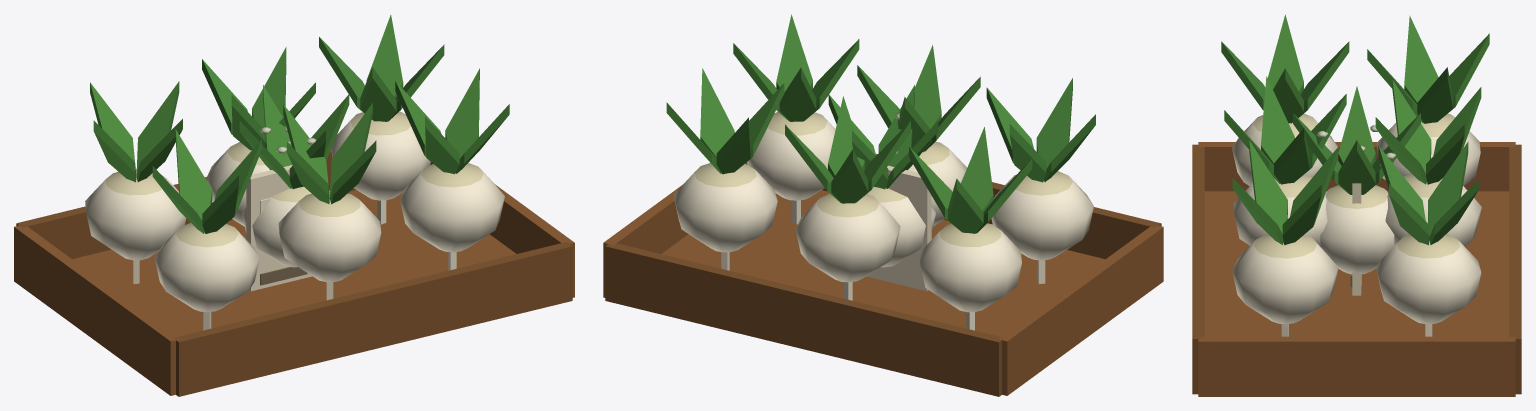
Rendered from Crop_SugarBeet.fbx.
3 renders of one model, left to right at view 1: azimuth 30°, elevation 25°; view 2: azimuth 150°, elevation 25°; view 3: azimuth 270°, elevation 25°, orthographic.
Parts seen in each view (by area): view 1: Crop_SugarBeet__Stack, Crop_SugarBeet, Crop_SugarBeet__Seed; view 2: Crop_SugarBeet__Stack, Crop_SugarBeet, Crop_SugarBeet__Seed; view 3: Crop_SugarBeet__Stack, Crop_SugarBeet, Crop_SugarBeet__Seed.
Part boxes in pixels (bbox=[...]): Crop_SugarBeet__Stack: bbox=[14, 14, 574, 396]; Crop_SugarBeet: bbox=[239, 85, 349, 267]; Crop_SugarBeet__Seed: bbox=[246, 165, 311, 291]; Crop_SugarBeet__Stack: bbox=[603, 14, 1163, 396]; Crop_SugarBeet: bbox=[828, 85, 938, 267]; Crop_SugarBeet__Seed: bbox=[866, 165, 931, 290]; Crop_SugarBeet__Stack: bbox=[1192, 14, 1521, 396]; Crop_SugarBeet: bbox=[1293, 86, 1420, 285]; Crop_SugarBeet__Seed: bbox=[1350, 183, 1361, 295].
Size of the model in its own units: 0.31 by 0.1415 by 0.216.
